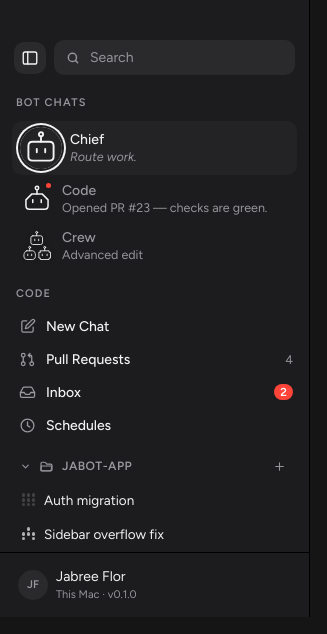
Scenario: Sidebar › filters threads by search, keeping the crew visible
The image size is (327, 634).
Type "overflow" into the search field named "Search threads" at (186, 58), box [88,48,283,67]
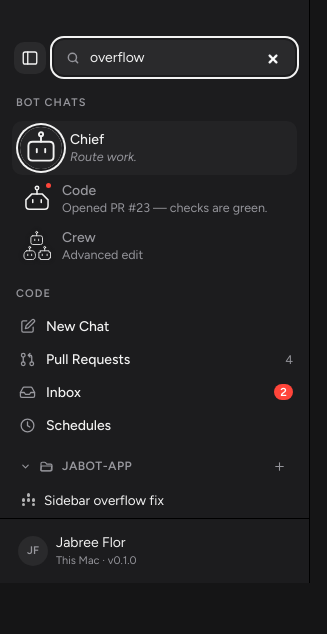
Expected: the button "Sidebar overflow fix" is shown, [14,484,295,516]
Now the button "Auth migration" is gone
